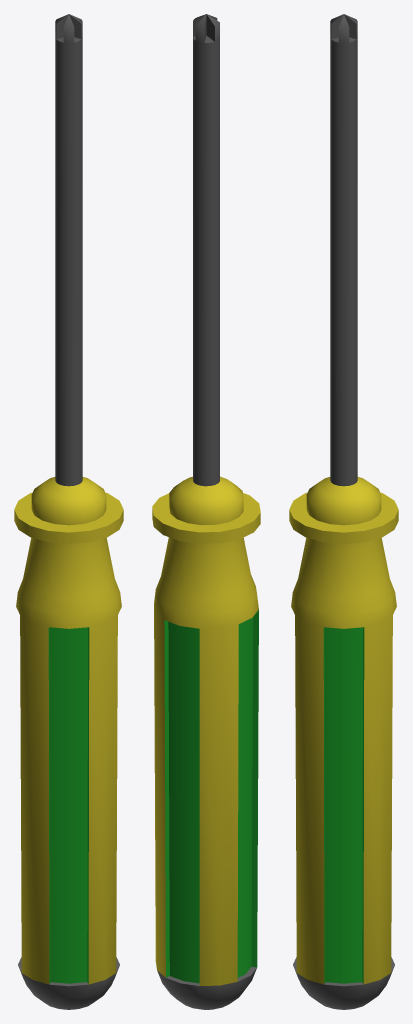
The model's file is Destornillador normal texturas simples.fbx.
3 views of the same model, side by side, from view 1: azimuth 90°, elevation 25°; view 2: azimuth 150°, elevation 25°; view 3: azimuth 270°, elevation 25° (orthographic).
Visible parts, largest first — view 1: Destornillador; view 2: Destornillador; view 3: Destornillador.
Boxes of the visible parts, <box> form: Destornillador: <box>14,14,123,1009</box>; Destornillador: <box>152,14,260,1009</box>; Destornillador: <box>289,14,398,1009</box>.
Size of the model in its own units: 2 by 20 by 2.
